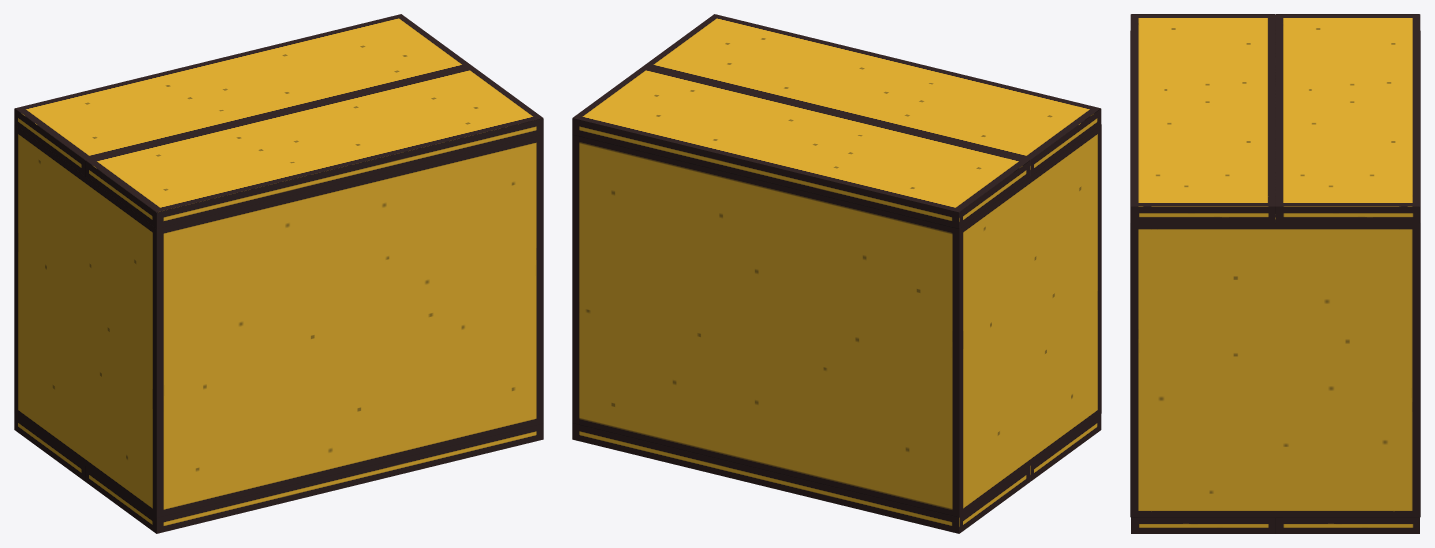
File: Boxi.fbx
3 views of the same model, side by side, from view 1: azimuth 30°, elevation 25°; view 2: azimuth 150°, elevation 25°; view 3: azimuth 270°, elevation 25° (orthographic).
Visible parts, largest first — view 1: Cube, Cube.009, Cube.008, Cube.010, Cube.011; view 2: Cube, Cube.008, Cube.009, Cube.011, Cube.010; view 3: Cube, Cube.009, Cube.008, Cube.011, Cube.010.
Part boxes in pixels (x1,y1,x2,y2): Cube: (14, 120, 543, 517); Cube.009: (85, 66, 543, 228); Cube.008: (14, 14, 471, 176); Cube.010: (85, 423, 543, 533); Cube.011: (14, 414, 85, 481); Cube: (572, 120, 1101, 517); Cube.008: (572, 66, 1030, 228); Cube.009: (643, 14, 1101, 175); Cube.011: (572, 423, 1030, 533); Cube.010: (1030, 414, 1101, 481); Cube: (1130, 31, 1420, 517); Cube.009: (1130, 14, 1275, 223); Cube.008: (1275, 14, 1420, 223); Cube.011: (1275, 517, 1419, 533); Cube.010: (1131, 517, 1275, 533).
Size of the model in its own units: 280 by 222 by 179.
